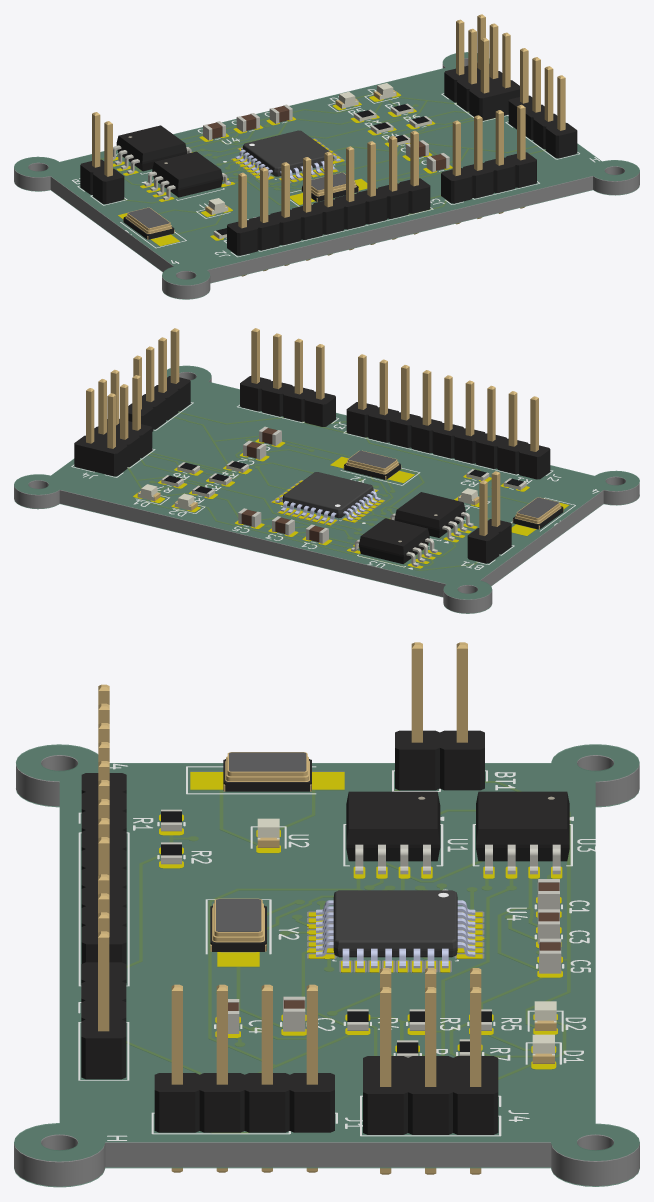
File: EEPROM.glb
3 renders of one model, top to bottom at view 1: azimuth 30°, elevation 25°; view 2: azimuth 150°, elevation 25°; view 3: azimuth 270°, elevation 25°, orthographic. The views are drawn at different scales.
Parts seen in each view (by area): view 1: =>[0:1:1:15], =>[0:1:1:14], J2, J4, J3, J1, =>[0:1:1:12], U4, U1, BT1, U3, =>[0:1:1:13] (+2 smaller); view 2: =>[0:1:1:15], =>[0:1:1:14], J2, J4, J3, =>[0:1:1:12], J1, U4, U3, BT1, U1, =>[0:1:1:13] (+2 smaller); view 3: =>[0:1:1:15], =>[0:1:1:14], J1, J4, =>[0:1:1:12], U4, J2, BT1, =>[0:1:1:13], U1, U3, J3 (+4 smaller).
Part boxes in pixels (<box>): =>[0:1:1:15]: <box>14,53,639,299</box>; =>[0:1:1:14]: <box>14,52,639,299</box>; J2: <box>227,130,430,276</box>; J4: <box>444,14,519,120</box>; J3: <box>441,104,536,224</box>; J1: <box>508,48,577,158</box>; =>[0:1:1:12]: <box>103,91,540,246</box>; U4: <box>235,130,340,179</box>; U1: <box>144,151,230,200</box>; BT1: <box>80,112,124,203</box>; U3: <box>113,125,191,174</box>; =>[0:1:1:13]: <box>72,89,599,263</box>; =>[0:1:1:15]: <box>14,366,639,613</box>; =>[0:1:1:14]: <box>14,365,639,613</box>; J2: <box>346,354,550,479</box>; J4: <box>74,369,152,476</box>; J3: <box>240,328,335,426</box>; =>[0:1:1:12]: <box>129,413,569,570</box>; J1: <box>128,328,190,431</box>; U4: <box>275,472,380,523</box>; U3: <box>351,518,437,566</box>; BT1: <box>467,471,511,563</box>; U1: <box>390,492,473,540</box>; =>[0:1:1:13]: <box>71,402,599,569</box>; =>[0:1:1:15]: <box>14,745,639,1186</box>; =>[0:1:1:14]: <box>14,744,639,1187</box>; J1: <box>154,984,334,1172</box>; J4: <box>363,968,498,1174</box>; =>[0:1:1:12]: <box>130,772,569,1132</box>; U4: <box>316,890,475,968</box>; J2: <box>81,684,126,982</box>; BT1: <box>395,642,484,790</box>; =>[0:1:1:13]: <box>78,763,595,1140</box>; U1: <box>346,791,440,874</box>; U3: <box>476,791,569,874</box>; J3: <box>81,874,126,1079</box>.
Bounding box in the file's own units: 0.0557 × 0.0115 × 0.0353.
